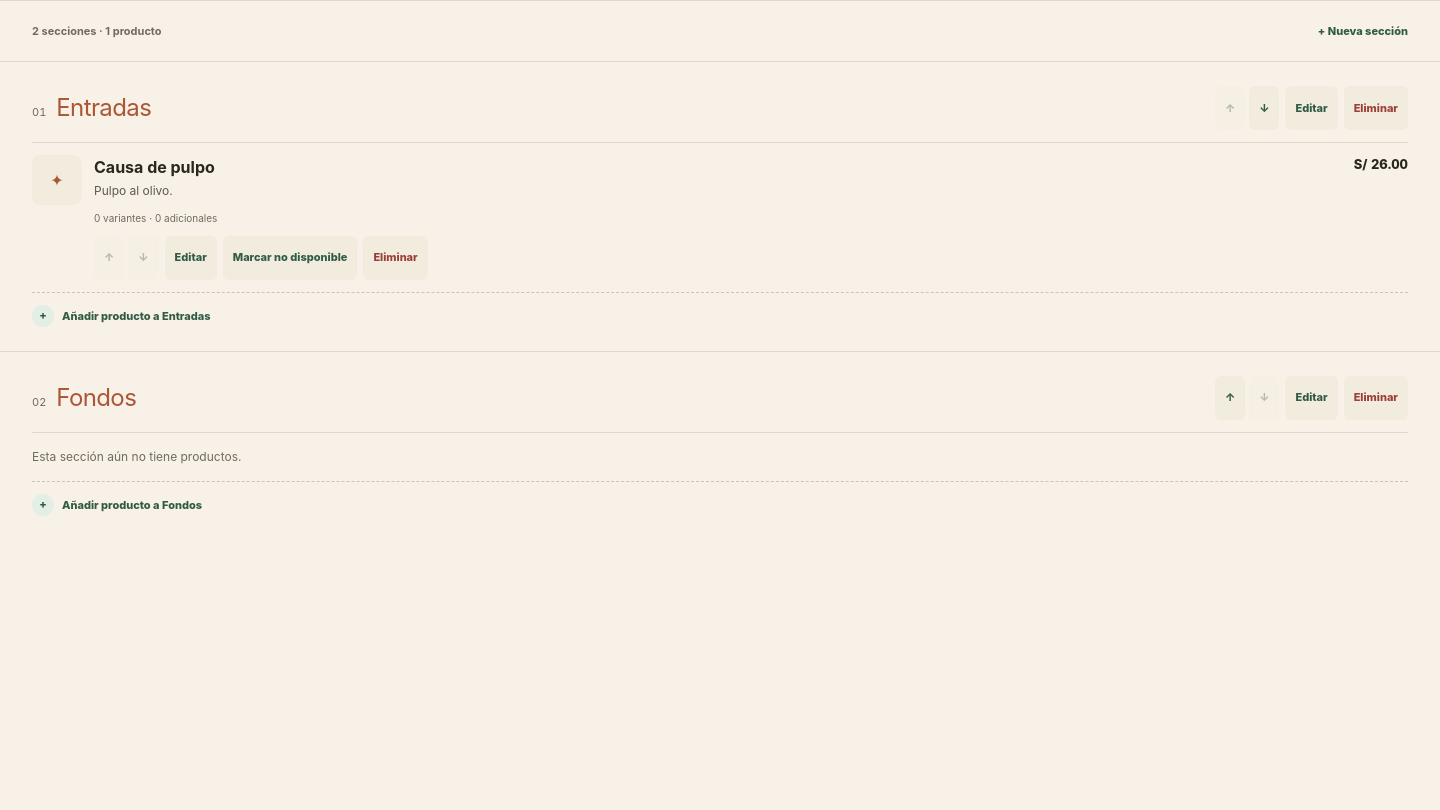
it: MenuManager · estilo de sección › una sección nueva arranca como lista compacta
The width and height of the screenshot is (1440, 810).
Step 1. Click the button "+ Nueva sección" → (1363, 31), box top-left (1318, 9), bottom-right (1408, 53)
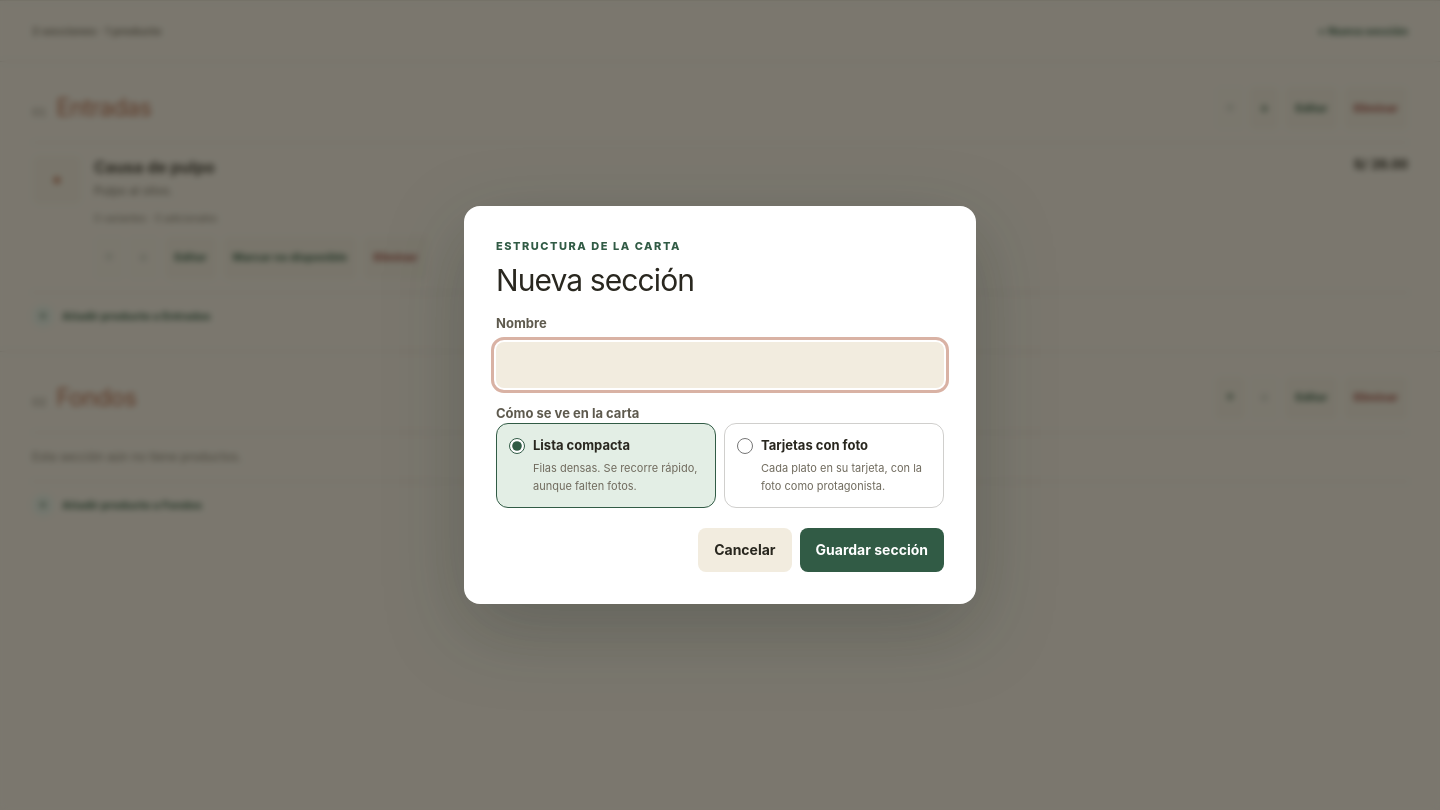
Result: the radio button labelled "Lista compacta" is checked at top-left (509, 438), bottom-right (525, 454)
Result: the radio button labelled "Tarjetas con foto" is not checked at top-left (737, 438), bottom-right (753, 454)
